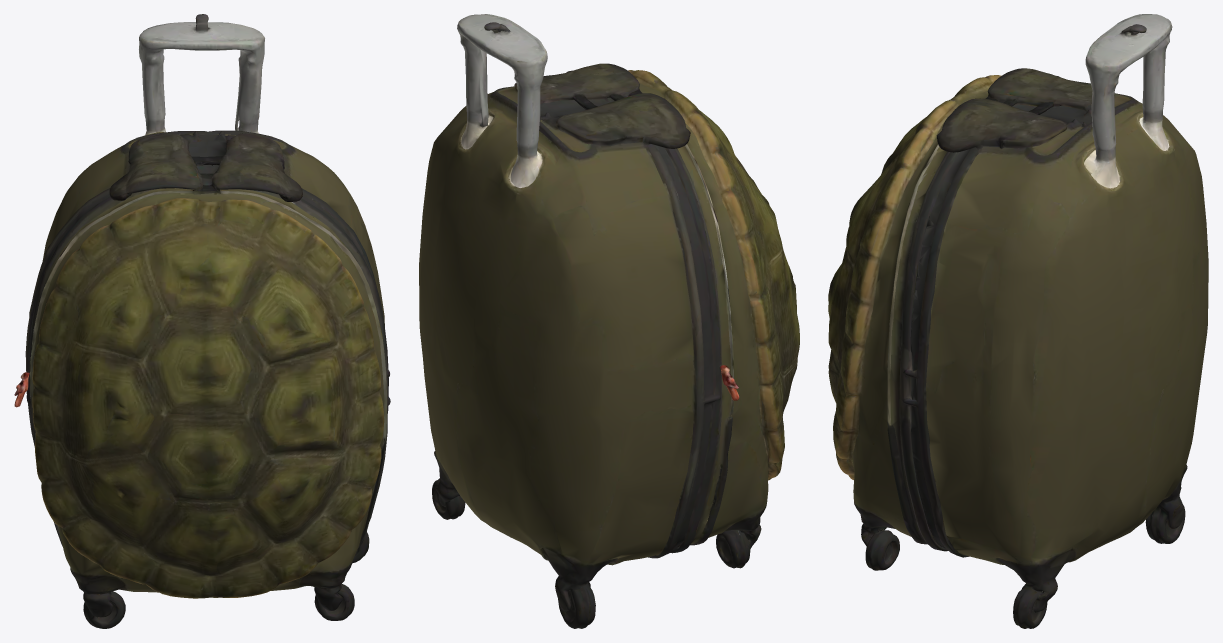
3 views of the same model, side by side, from view 1: azimuth 30°, elevation 25°; view 2: azimuth 150°, elevation 25°; view 3: azimuth 270°, elevation 25° (orthographic). The views are drawn at different scales.
Size of the model in its own units: 0.6133 by 0.9425 by 0.5776.
1 material, 1 textured.
